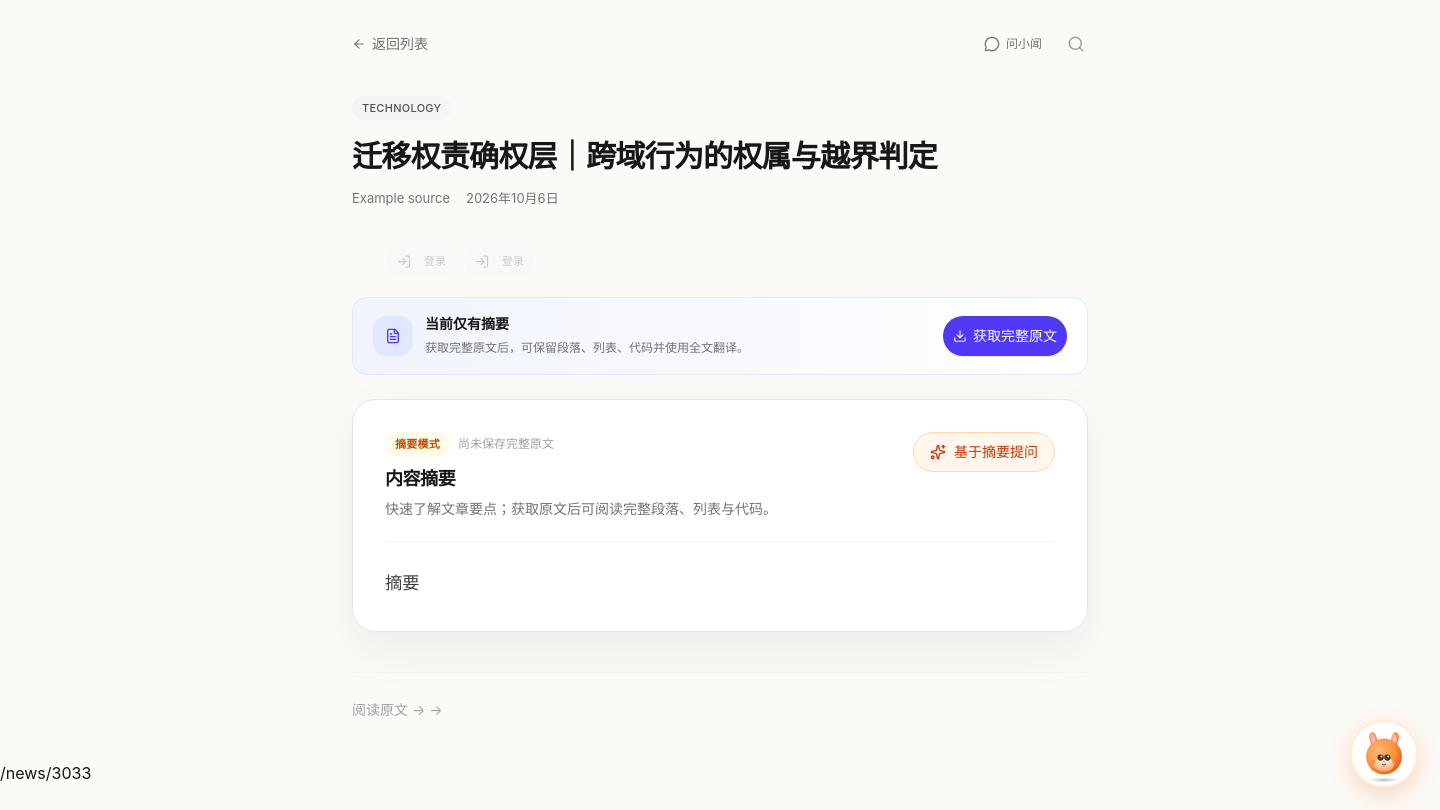
Scenario: news list return navigation and invalidation › opens the login dialog instead of posting a full fetch for a signed-out reader
Click the button "获取完整原文": (1005, 336) x1=943 y1=316 x2=1067 y2=356
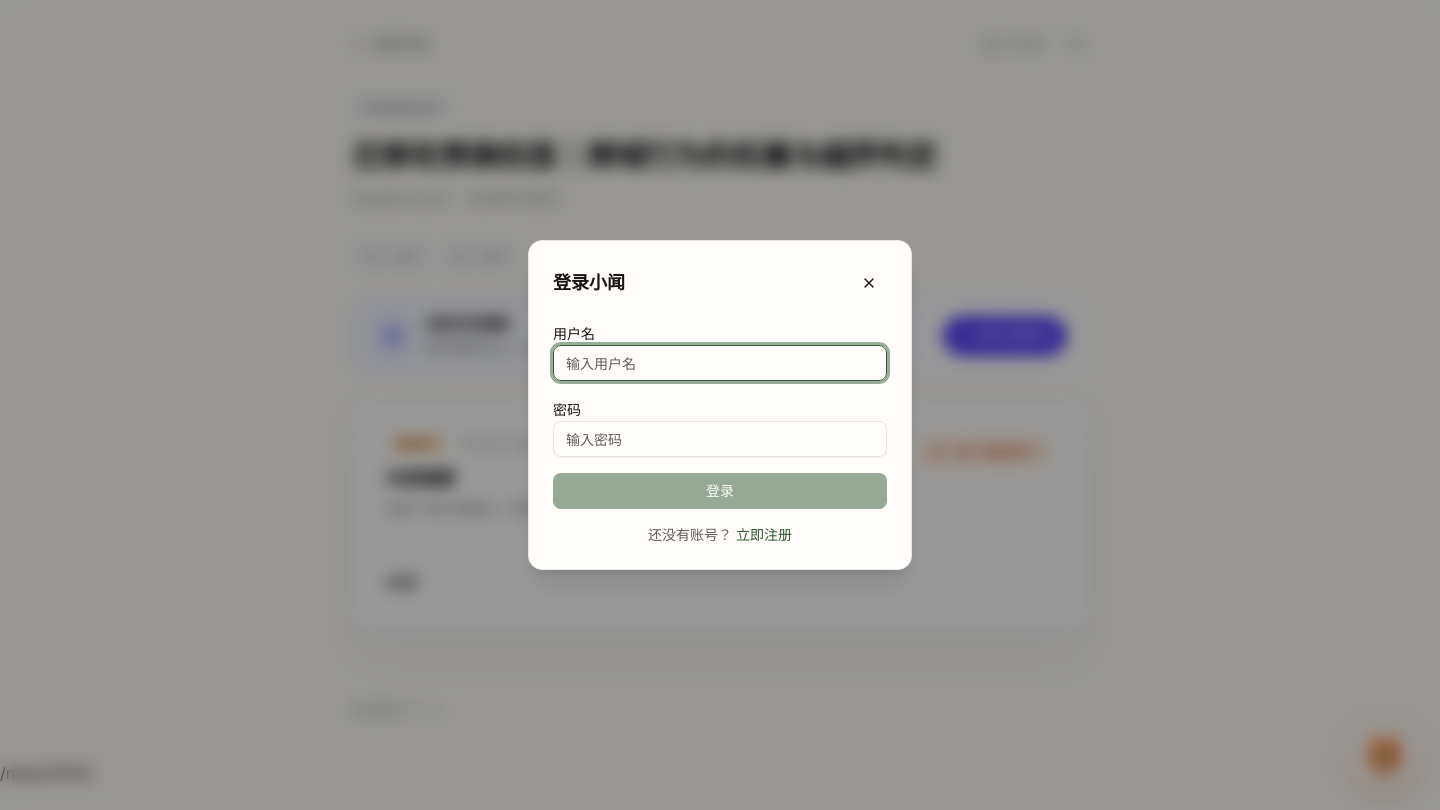
Now the dialog "登录小闻" is shown, box x1=528 y1=240 x2=912 y2=570
